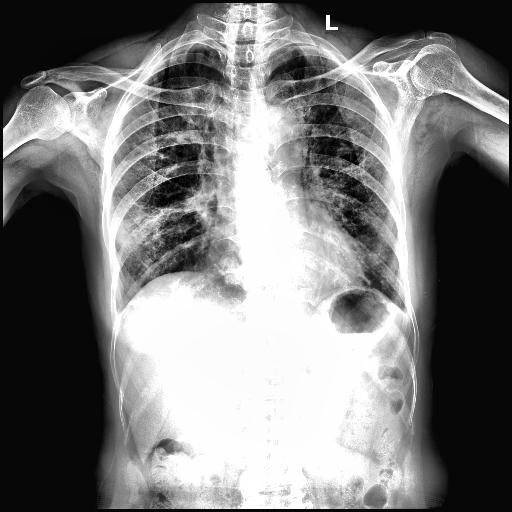0- Aortic enlargement: (253, 106, 308, 171), (257, 108, 303, 166)
11- Pleural thickening: (161, 42, 221, 56), (271, 42, 309, 56)
13- Pulmonary fibrosis: (118, 192, 206, 252), (137, 160, 199, 194), (136, 140, 177, 160)
3- Cardiomegaly: (206, 233, 366, 290)
5- ILD: (276, 68, 402, 292), (112, 66, 226, 285)
6- Infiltration: (306, 69, 412, 301), (108, 147, 182, 313), (118, 192, 206, 252)
7- Lung Opacity: (306, 69, 412, 301), (108, 147, 182, 313)
